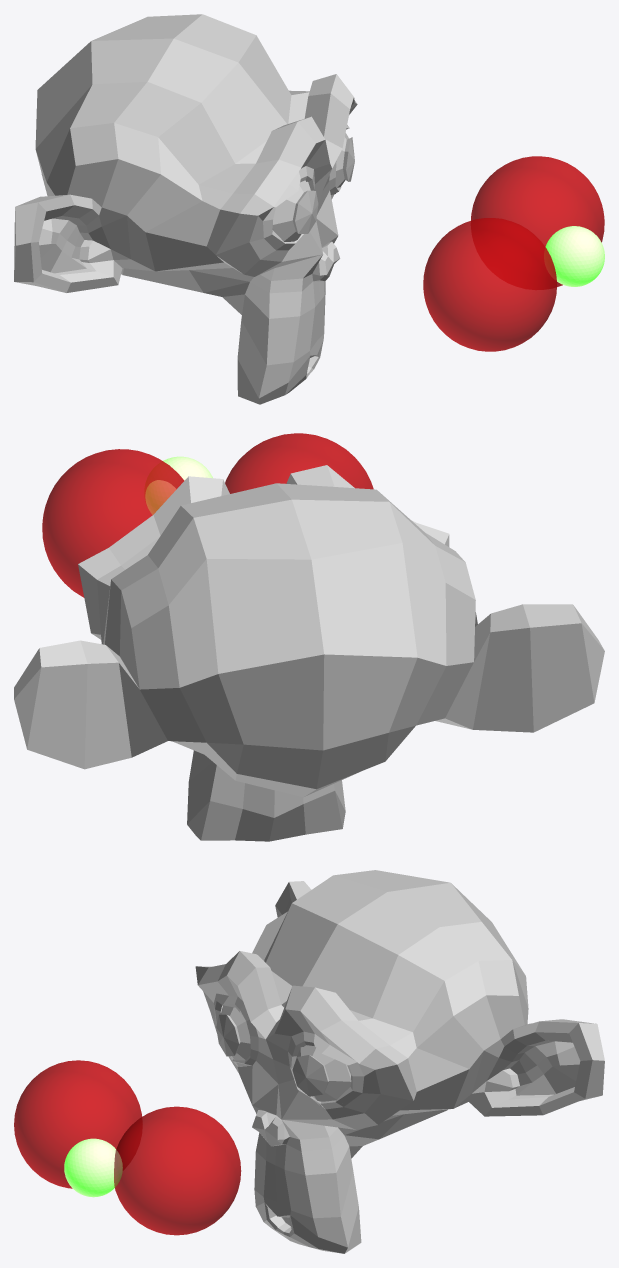
File: RUSSO.glb
3 views of the same model, one above another, from view 1: azimuth 30°, elevation 25°; view 2: azimuth 150°, elevation 25°; view 3: azimuth 270°, elevation 25° (orthographic). The views are drawn at different scales.
Visible parts, largest first — view 1: Suzanne, Icosphere, Icosphere.001, Icosphere.002; view 2: Suzanne, Icosphere.001, Icosphere, Icosphere.002; view 3: Suzanne, Icosphere.001, Icosphere, Icosphere.002.
Boxes of the visible parts, x1=… form: Suzanne: x1=14, y1=14, x2=357, y2=404; Icosphere: x1=423, y1=218, x2=556, y2=351; Icosphere.001: x1=471, y1=156, x2=604, y2=286; Icosphere.002: x1=545, y1=226, x2=604, y2=286; Suzanne: x1=14, y1=465, x2=604, y2=841; Icosphere.001: x1=42, y1=449, x2=184, y2=597; Icosphere: x1=225, y1=433, x2=373, y2=493; Icosphere.002: x1=145, y1=456, x2=212, y2=514; Suzanne: x1=195, y1=870, x2=604, y2=1253; Icosphere.001: x1=114, y1=1106, x2=241, y2=1235; Icosphere: x1=14, y1=1060, x2=142, y2=1188; Icosphere.002: x1=64, y1=1138, x2=122, y2=1197.
Size of the model in its own units: 9.02 by 5.47 by 9.17.
